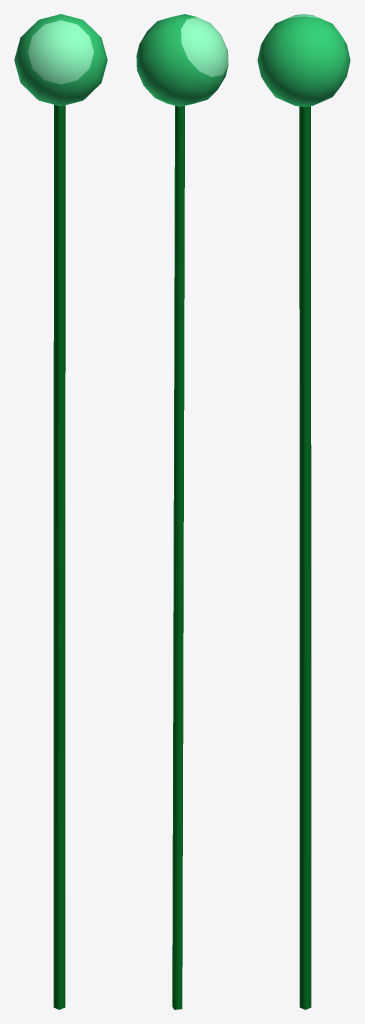
The model's file is tree05.FBX.
The picture shows the model from 3 angles, left to right: view 1: azimuth 90°, elevation 25°; view 2: azimuth 150°, elevation 25°; view 3: azimuth 270°, elevation 25°; orthographic projection.
Parts seen in each view (by area): view 1: tree05; view 2: tree05; view 3: tree05.
Boxes of the visible parts, bbox=[...] form: tree05: bbox=[14, 14, 107, 1009]; tree05: bbox=[136, 14, 228, 1009]; tree05: bbox=[257, 14, 350, 1009].
Size of the model in its own units: 4.92 by 57.87 by 4.95.
Materials: 1 (1 with a texture image).
